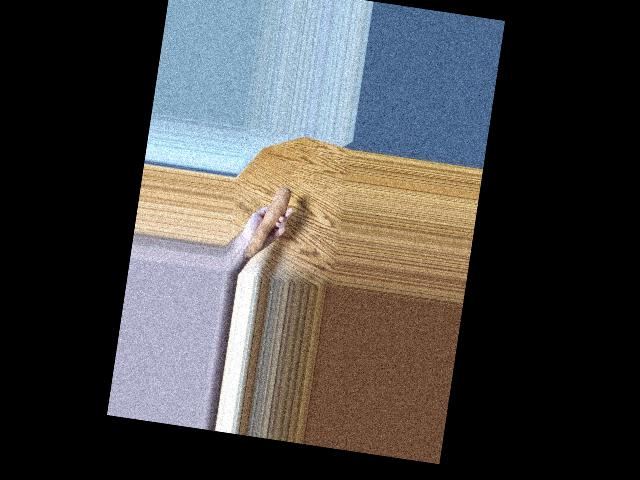sweet_potato: (244, 185, 286, 261)
